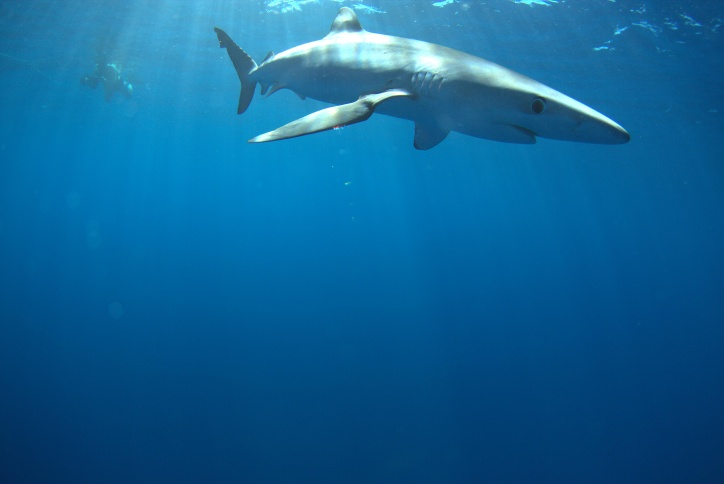Azul: (202, 1, 656, 171)
